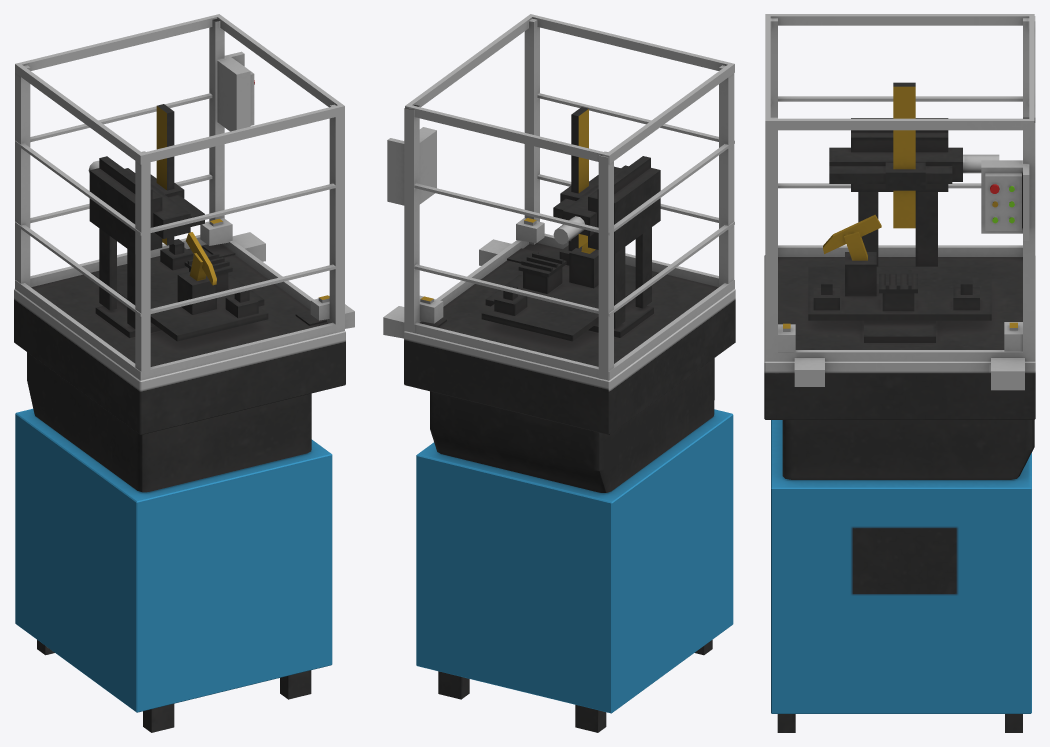
Rendered from luosiningjinji.fbx.
3 renders of one model, left to right at view 1: azimuth 30°, elevation 25°; view 2: azimuth 150°, elevation 25°; view 3: azimuth 270°, elevation 25°, orthographic. The views are drawn at different scales.
Parts seen in each view (by area): view 1: luosiningjinji; view 2: luosiningjinji; view 3: luosiningjinji.
Boxes of the visible parts, x1,y1,x2,y2 form: luosiningjinji: (14,14,354,732); luosiningjinji: (383,14,735,732); luosiningjinji: (764,14,1035,732).
Size of the model in its own units: 68.53 by 165 by 64.83.
